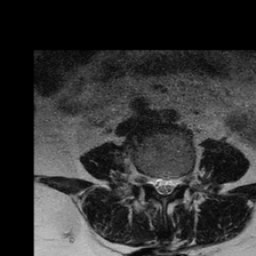CCS_normal: (160, 169, 168, 203)
LFS_normal: (176, 165, 185, 194)
LLS_normal: (168, 167, 176, 199)
RFS_normal: (144, 166, 152, 190)
RLS_normal: (152, 167, 160, 196)
